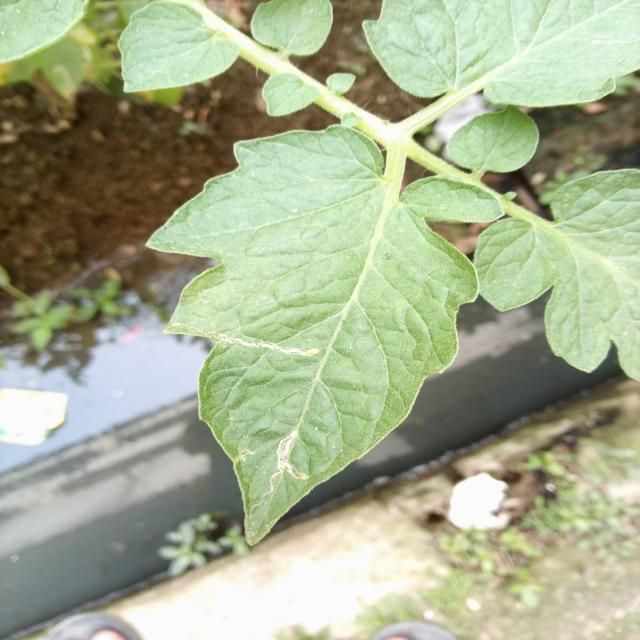Tuta absoluta: (205, 330, 320, 359), (277, 431, 307, 479)
